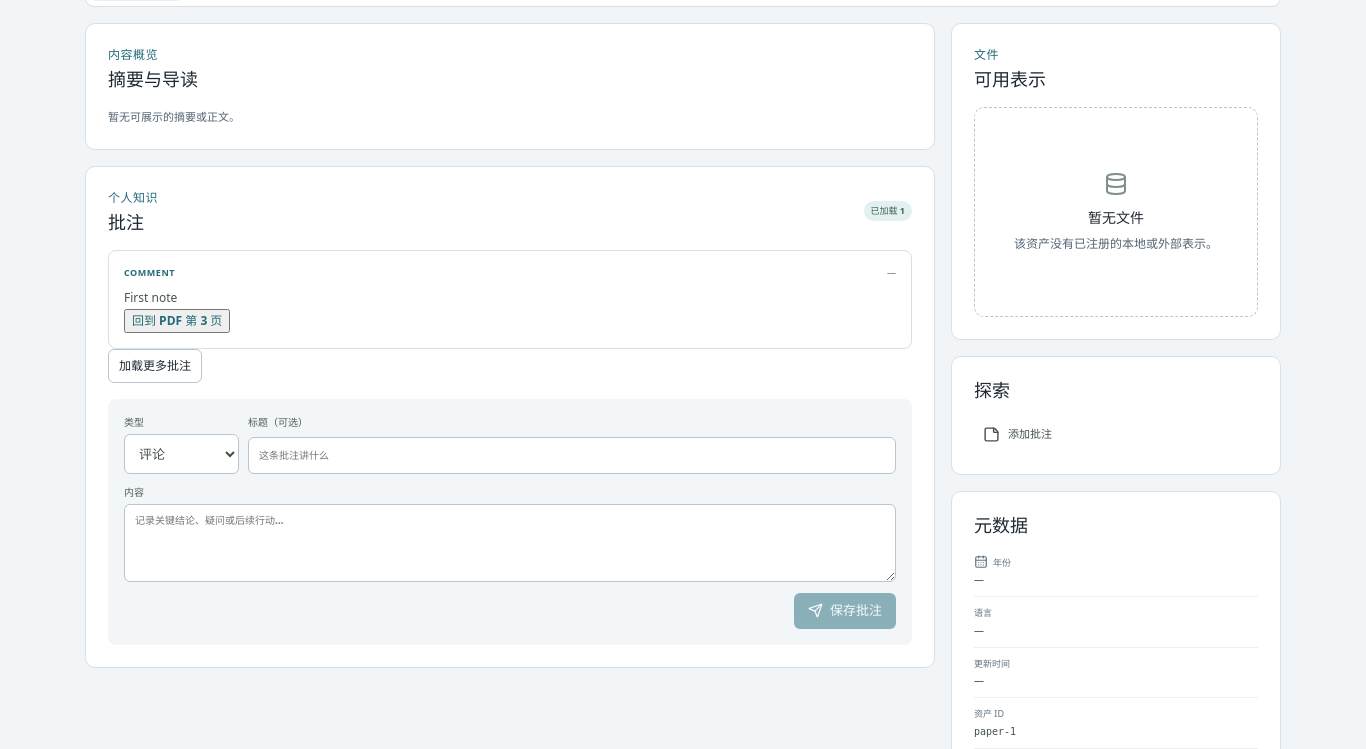
paper metadata entry › keeps the first annotation page after a load failure and retries the cursor without losing PDF anchors
(page scrolled)
Expected: the text "First note" is shown, [124,289,177,306]
Click the button "加载更多批注" at (155, 366), box [108,349,202,383]
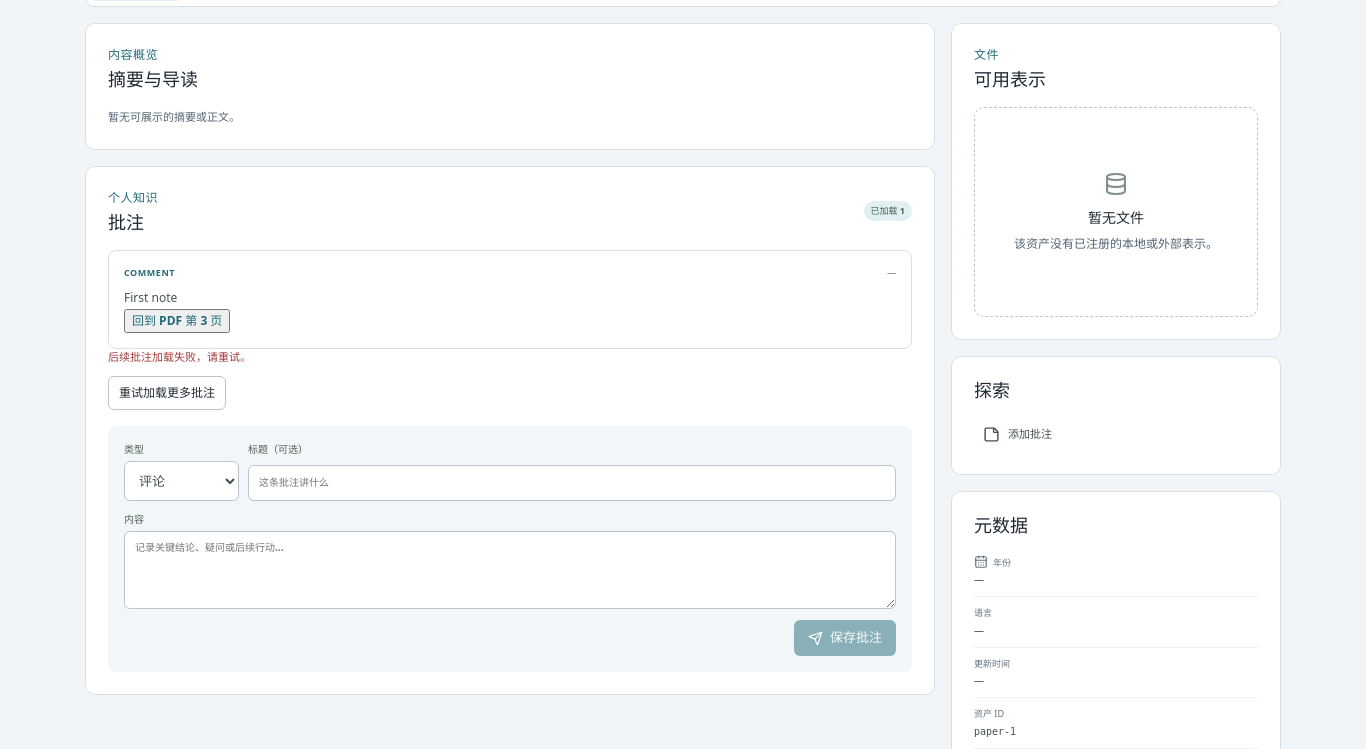
Expected: the text "First note" is shown, [124,289,177,306]
Result: the message shows "后续批注加载失败" at [108,349,251,364]
Click the button "重试加载更多批注" at (167, 393), box [108,376,226,410]
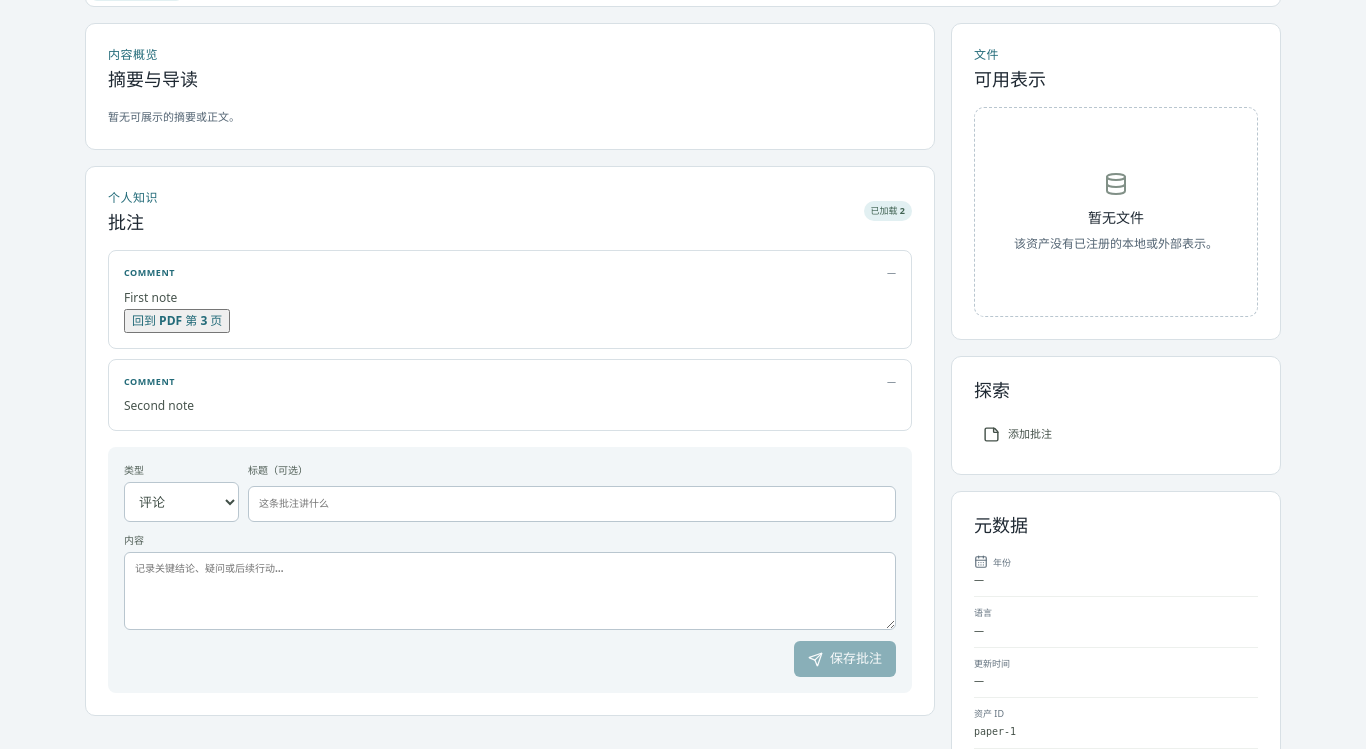
Result: the text "Second note" is shown at [124,397,194,414]
Result: the text "已加载 2" is shown at [864,201,912,221]
Result: the button "加载更多批注" is gone
